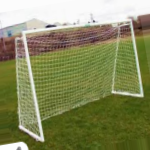goals: (14, 17, 147, 144)
